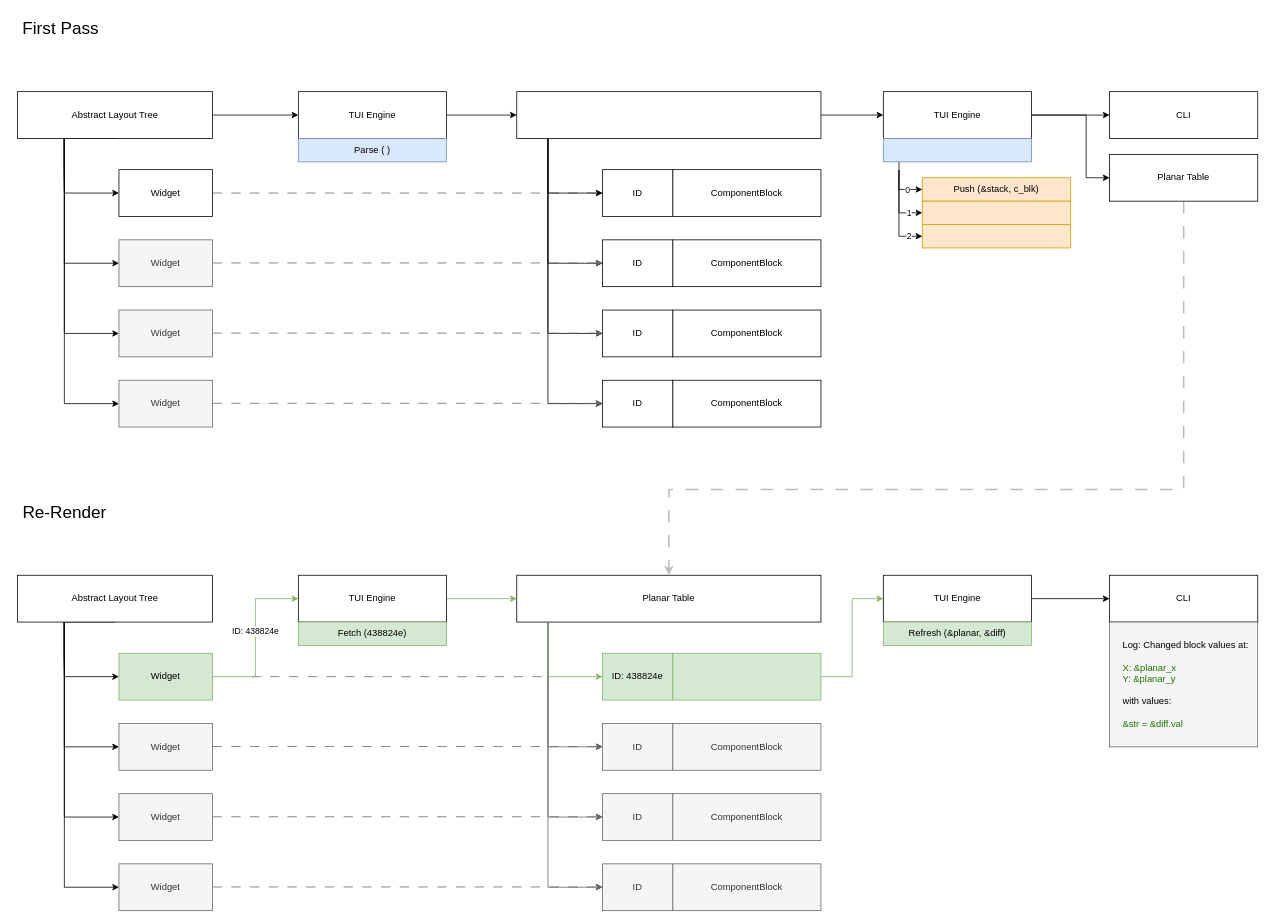
Image size: 1271x924. Some labels were removed from this diagram. Here are the shapes that lost their labels. From the top down, the centre of each, then its label:
At point (668, 114): "Render Tree".
At point (957, 150): "iter (tree)".
At point (996, 212): "Push (...) [END]".
At point (996, 236): "Render ( )".
At point (746, 676): "Planar Location".
